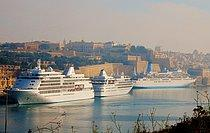Ship: (6, 61, 99, 111)
